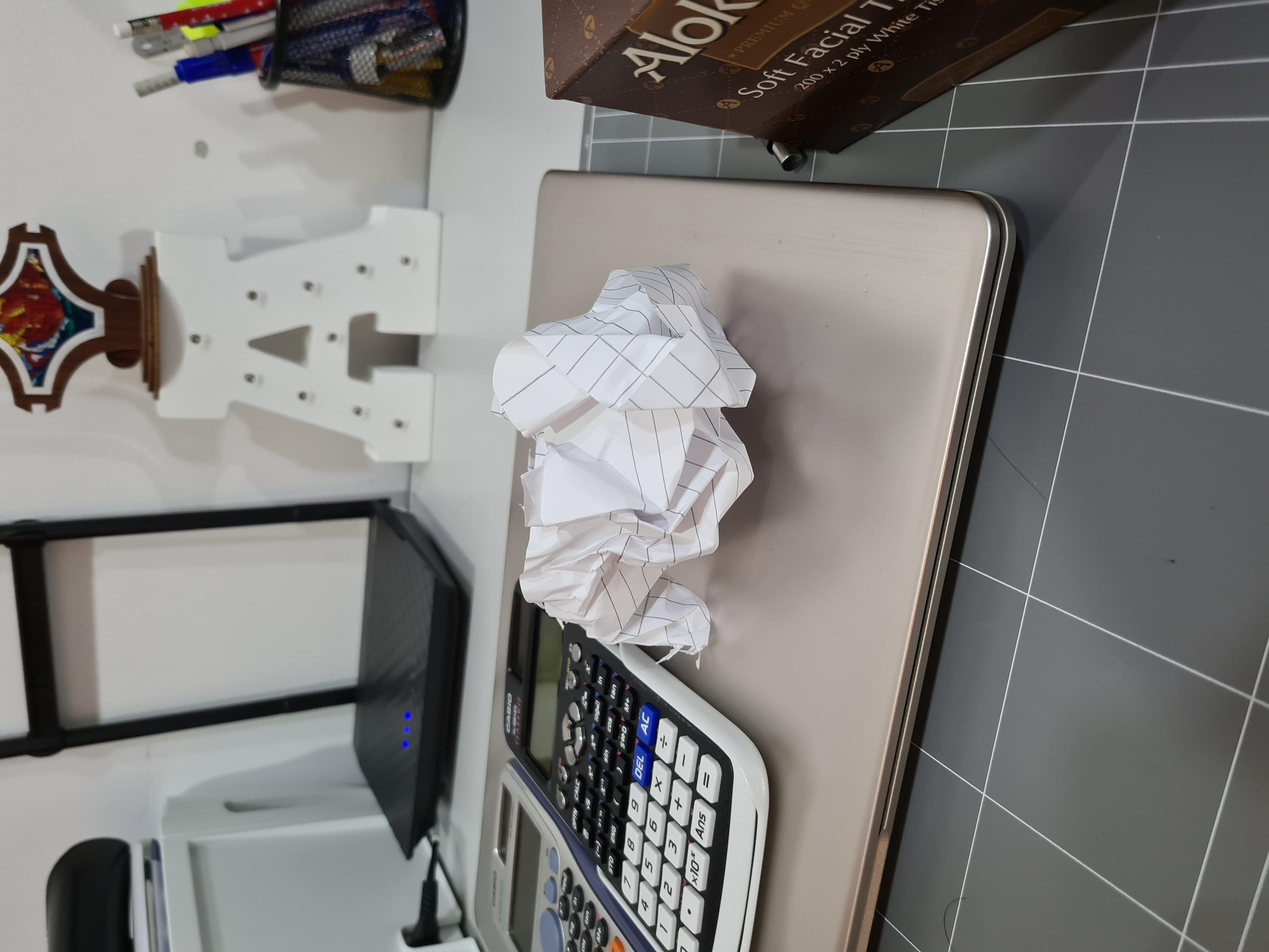paper: (404, 369, 904, 579)
